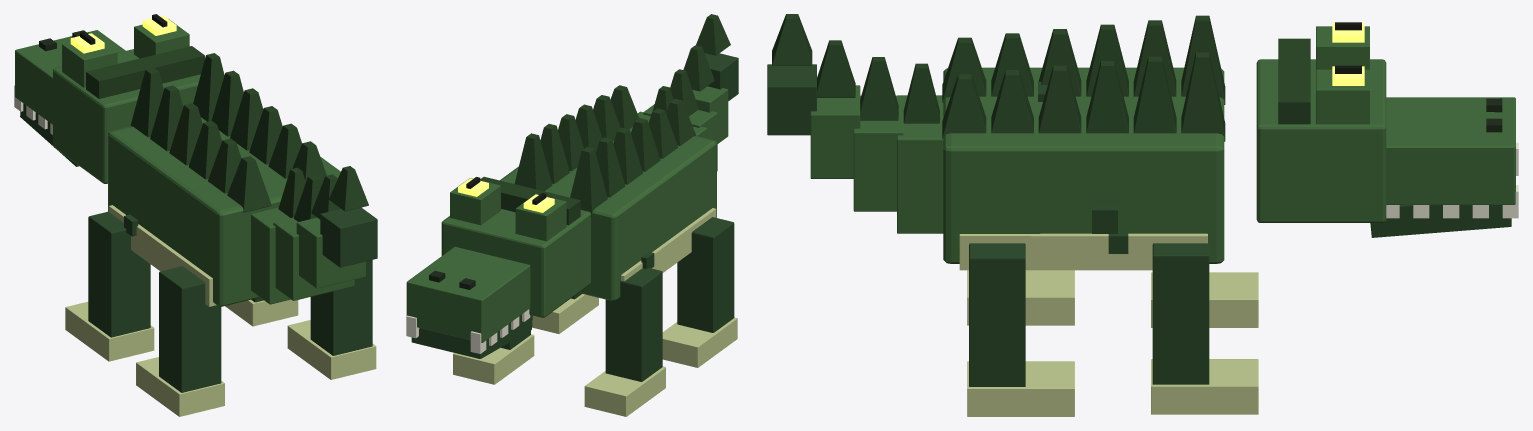
Rendered from crocodile.glb.
3 renders of one model, left to right at view 1: azimuth 30°, elevation 25°; view 2: azimuth 150°, elevation 25°; view 3: azimuth 270°, elevation 25°, orthographic. The views are drawn at different scales.
Parts seen in each view (by area): view 1: body, head, tail, leg.BR, leg.FR, leg.BL, leg.FL; view 2: body, head, leg.FR, leg.BR, tail, leg.FL, leg.BL; view 3: body, head, tail, leg.FL, leg.BL, leg.BR, leg.FR.
Boxes of the visible parts, <box> form: body: <box>108,53,340,306</box>; head: <box>14,14,204,183</box>; tail: <box>251,166,377,304</box>; leg.BR: <box>136,266,224,416</box>; leg.FR: <box>65,211,154,361</box>; leg.BL: <box>287,260,376,379</box>; leg.FL: <box>225,297,298,326</box>; body: <box>500,85,716,300</box>; head: <box>406,176,590,358</box>; leg.FR: <box>584,268,665,416</box>; leg.BR: <box>662,217,737,367</box>; tail: <box>637,14,738,171</box>; leg.FL: <box>453,330,534,384</box>; leg.BL: <box>532,293,598,333</box>; body: <box>942,15,1225,270</box>; head: <box>1256,22,1518,237</box>; tail: <box>767,14,943,233</box>; leg.FL: <box>1151,241,1258,414</box>; leg.BL: <box>967,243,1074,416</box>; leg.BR: <box>967,270,1074,325</box>; leg.FR: <box>1151,272,1258,327</box>.
Bounding box in the file's own units: 0.7465 × 1 × 1.99.
